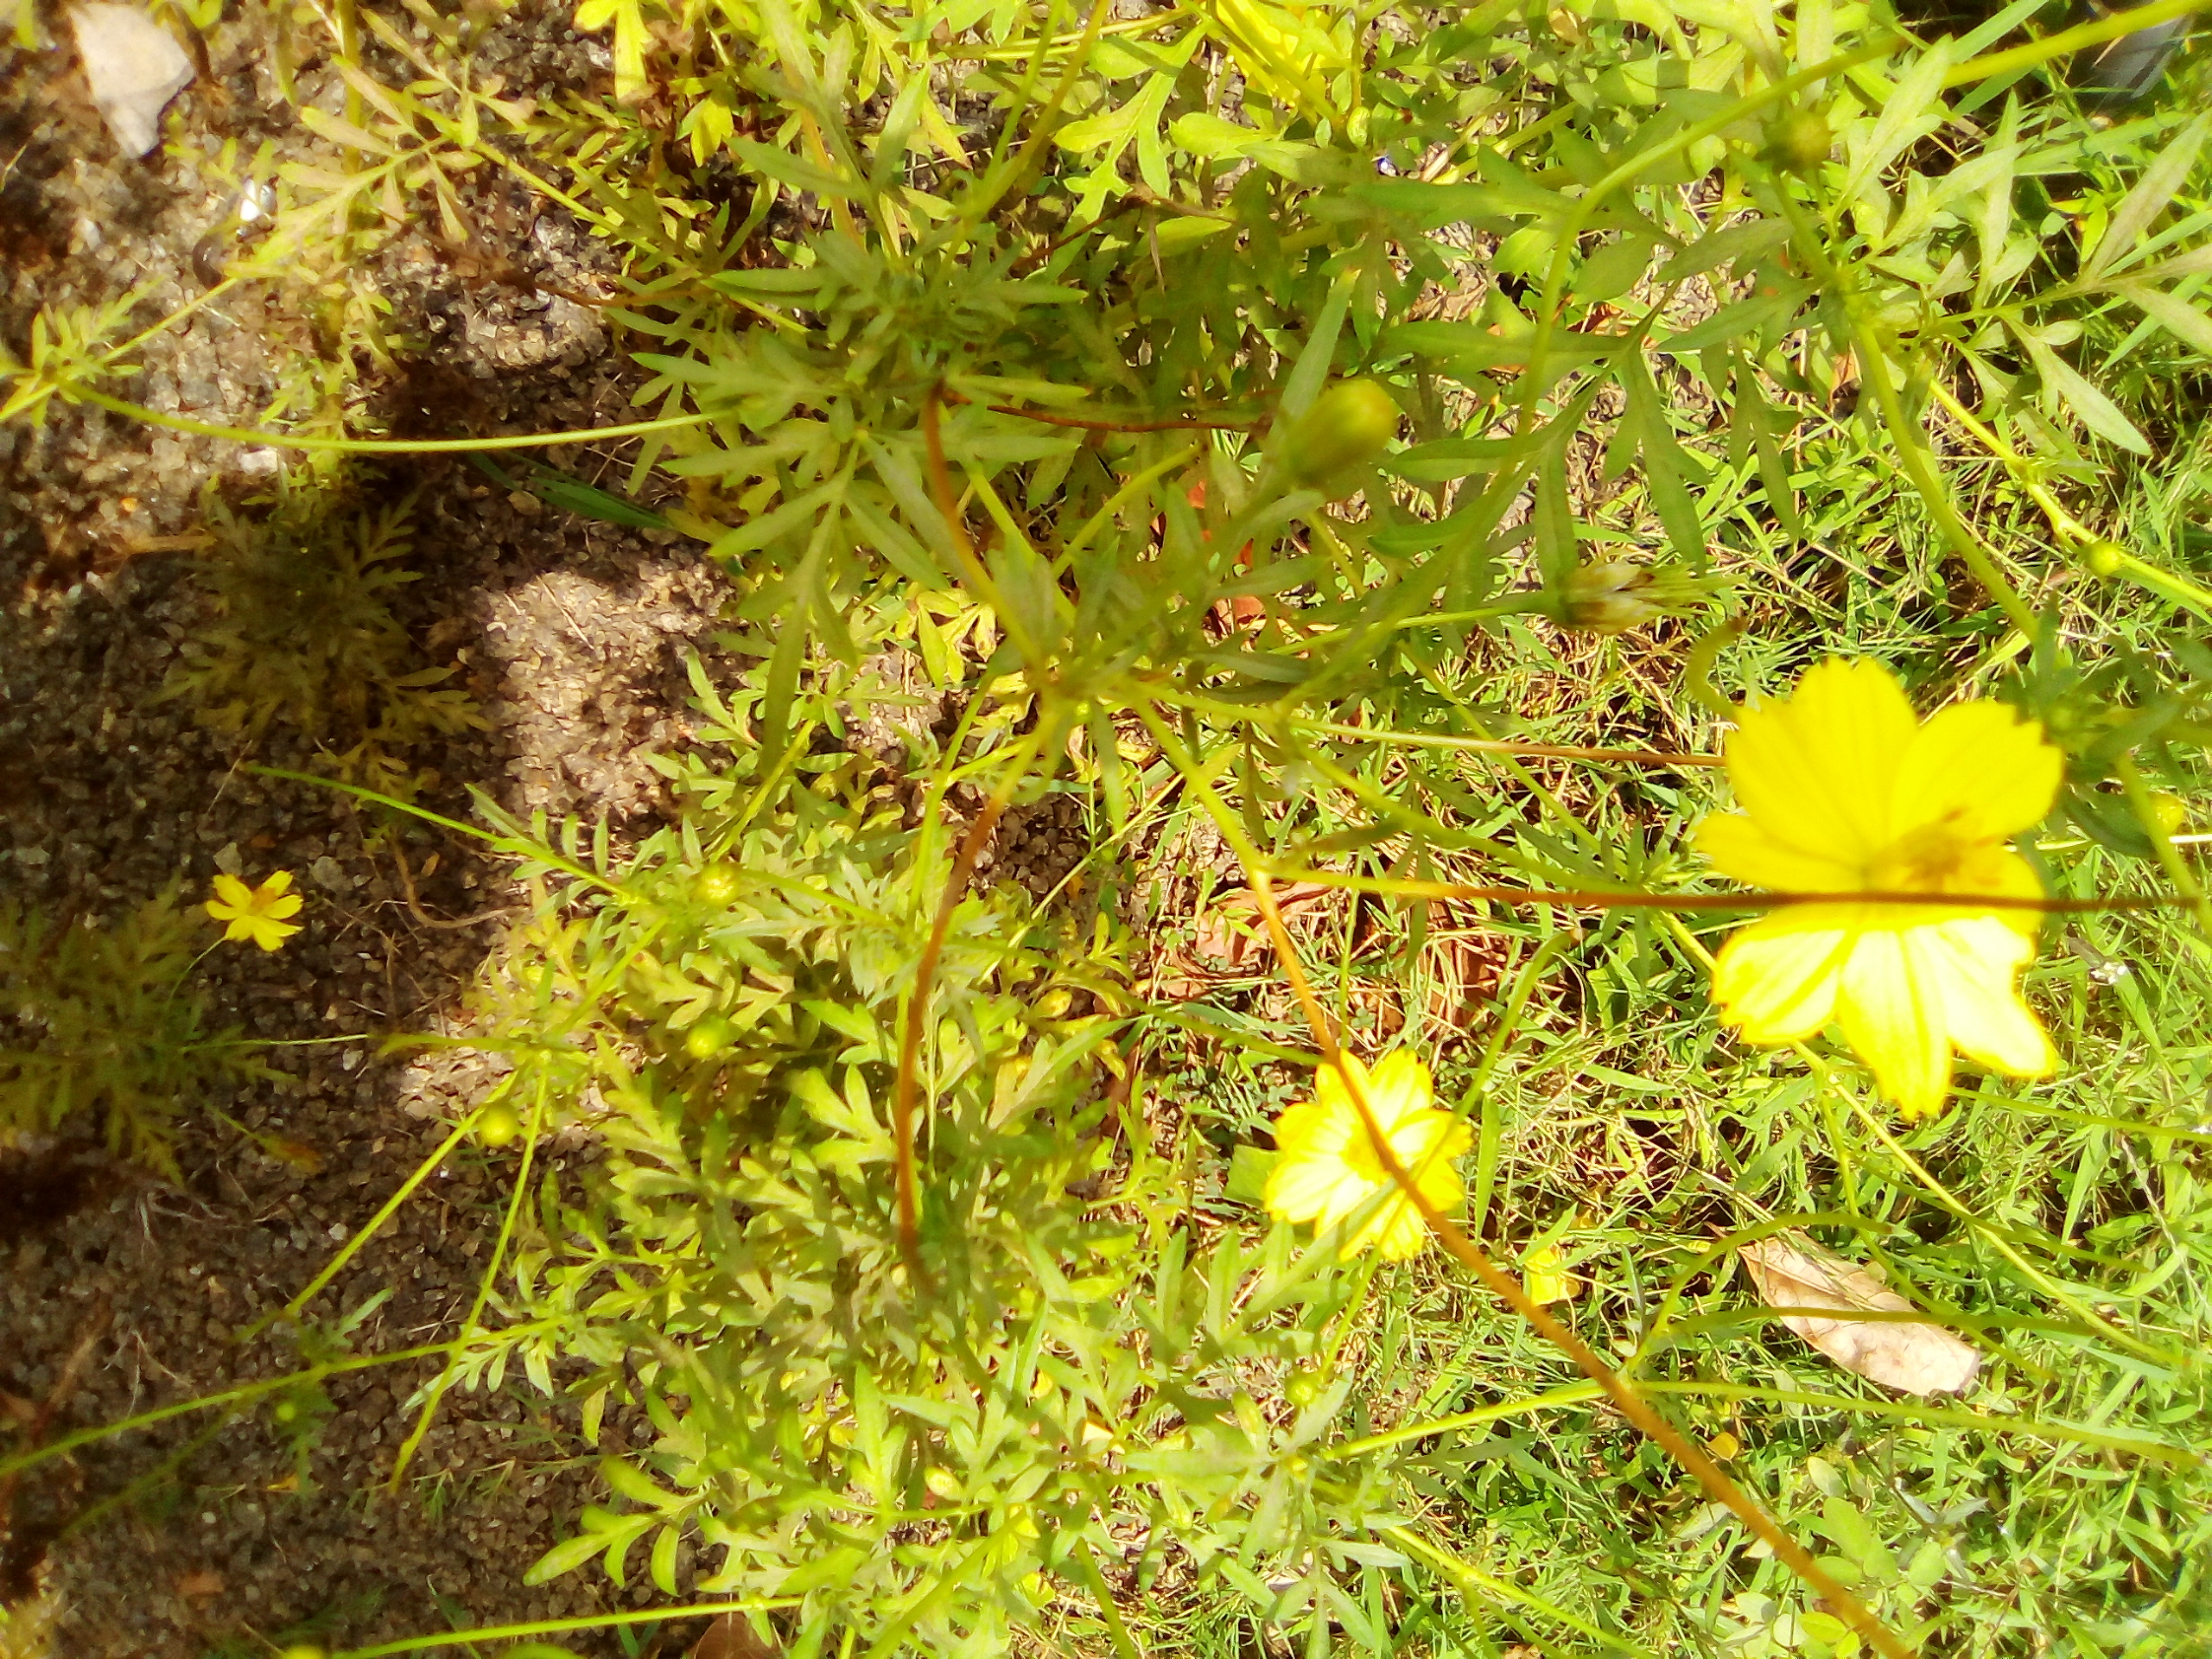kahamala: (1712, 641, 2083, 1124), (1249, 1037, 1508, 1263)
